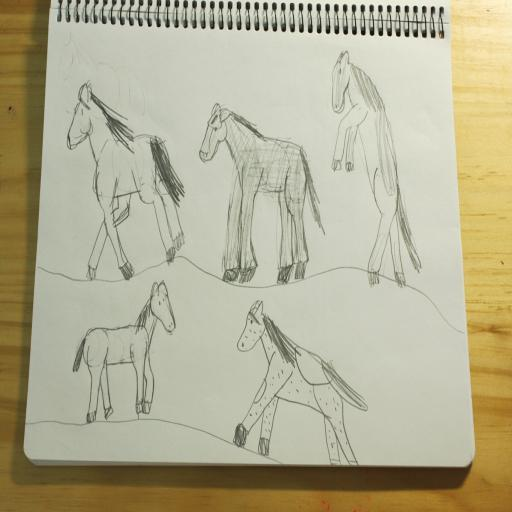Horse: (66, 77, 186, 280), (199, 100, 327, 286), (329, 46, 424, 286), (234, 298, 370, 464), (72, 278, 177, 424)
